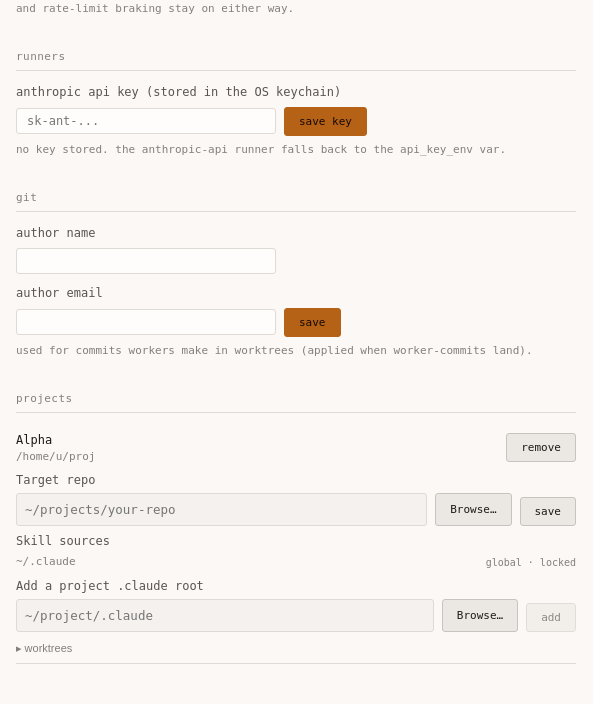
Test: SettingsView worktrees (S2) › shows the empty state when there are no worktrees
The width and height of the screenshot is (593, 704).
(page scrolled)
Click the button "▸ worktrees": {"x": 44, "y": 648} [16,642,72,654]
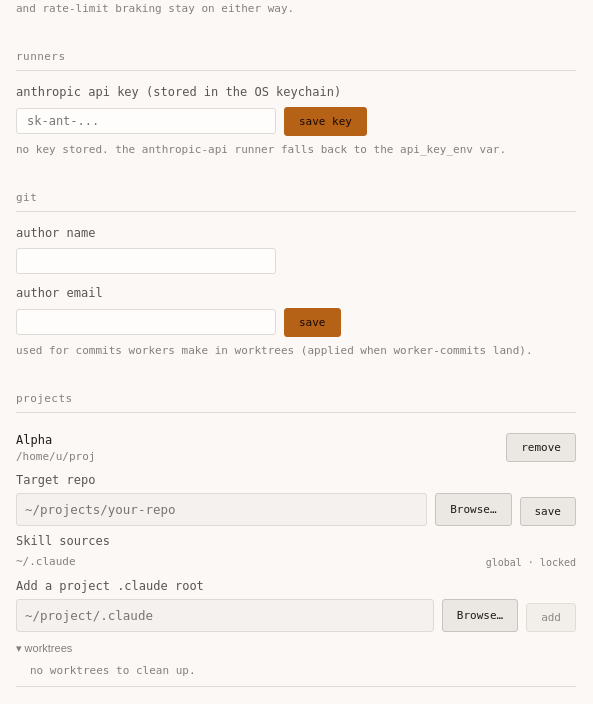
Expected: the text "no worktrees to clean up." is shown, [30,664,196,677]
